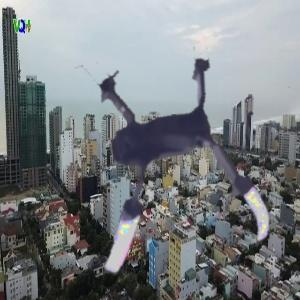drone: (31, 32, 295, 296)
